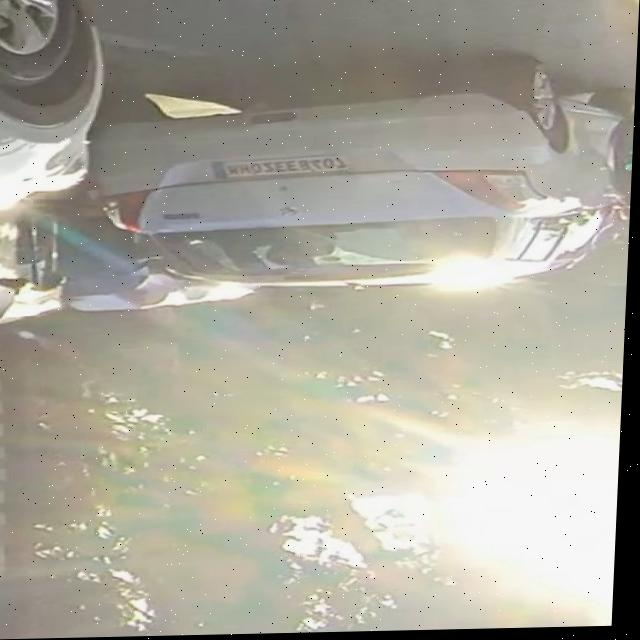plate: (219, 158, 352, 181)
